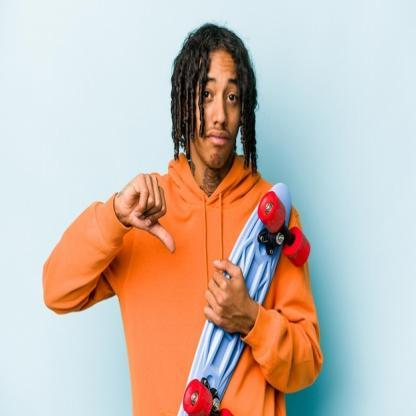thumb_down: (116, 168, 178, 256)
